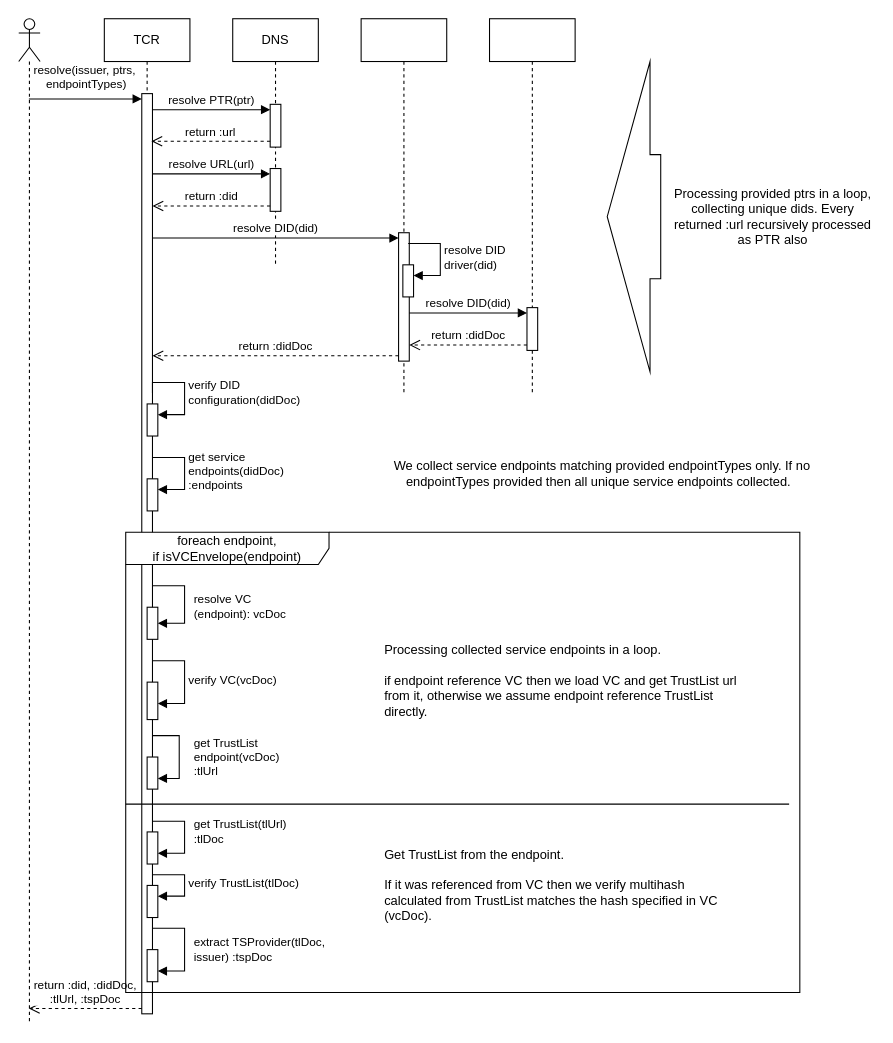
Image size: 893x1043. Some labels were removed from this diagram. Here are the shapes that lost their labels. From the top down, the box of each, then its label:
(360, 18, 447, 393): UniResolver
(488, 18, 575, 393): DidDriver
